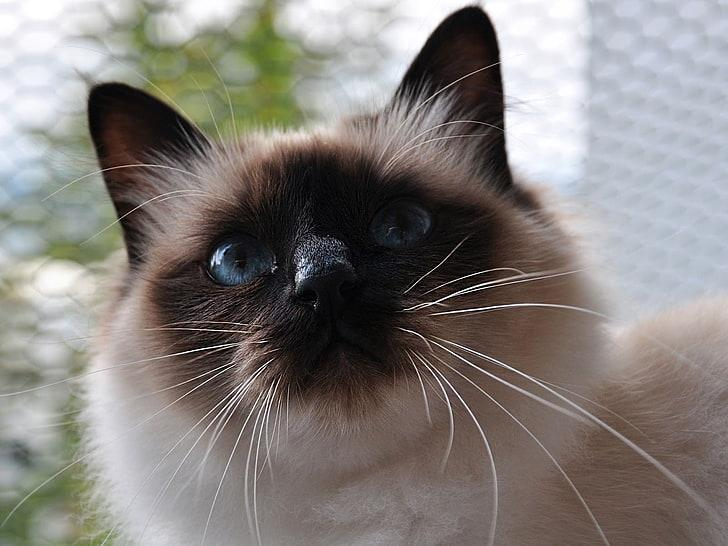siamese: (78, 1, 537, 461)
